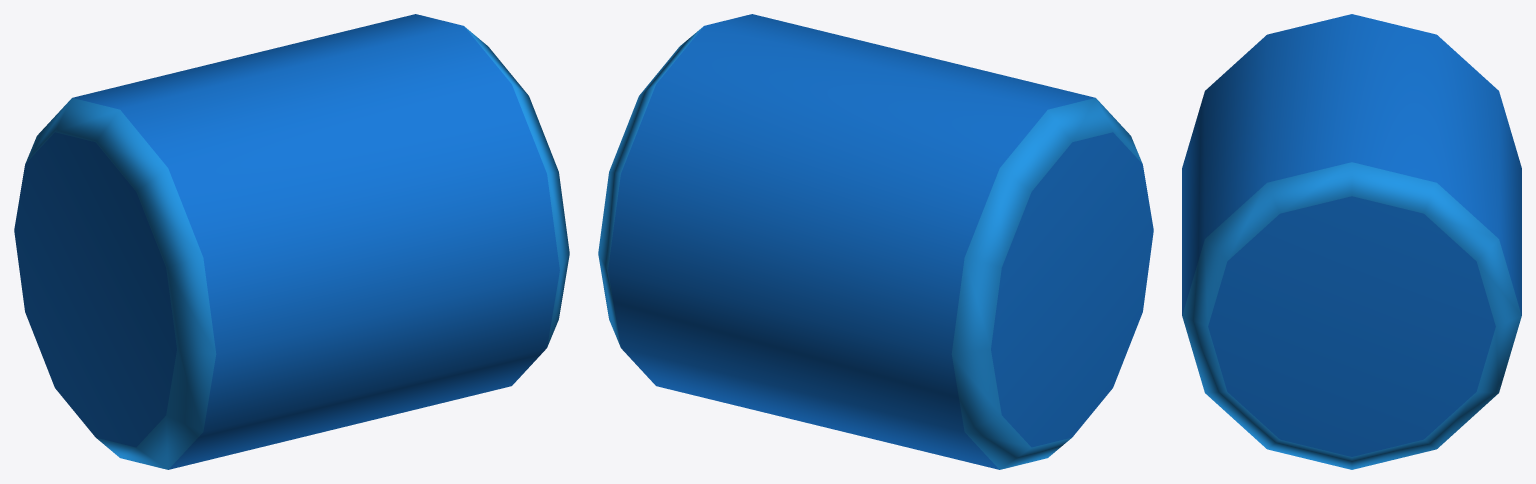
Rendered from obstacle_11_001.fbx.
3 views of the same model, side by side, from view 1: azimuth 30°, elevation 25°; view 2: azimuth 150°, elevation 25°; view 3: azimuth 270°, elevation 25° (orthographic). The views are drawn at different scales.
Parts seen in each view (by area): view 1: obstacle_11_001; view 2: obstacle_11_001; view 3: obstacle_11_001.
Part boxes in pixels (bbox=[...]): obstacle_11_001: bbox=[14, 14, 569, 469]; obstacle_11_001: bbox=[598, 14, 1153, 469]; obstacle_11_001: bbox=[1182, 14, 1521, 469].
Bounding box in the file's own units: 78.46 × 66.52 × 66.52.
